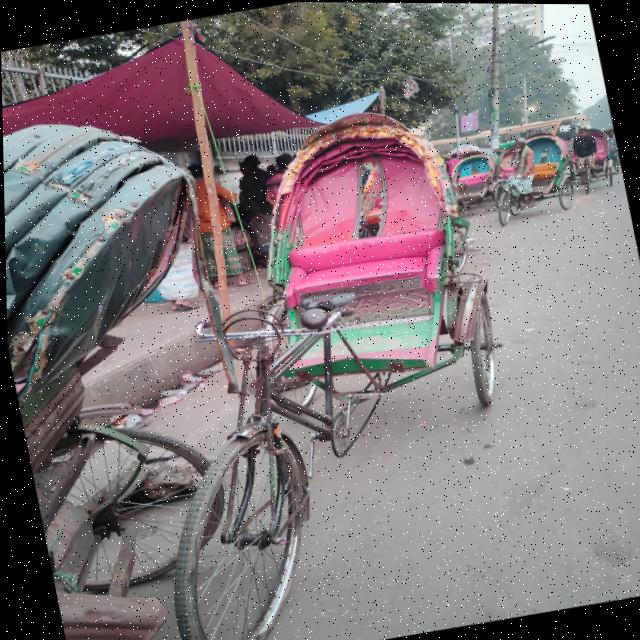rikshaw: (15, 105, 550, 640), (475, 117, 582, 247)
